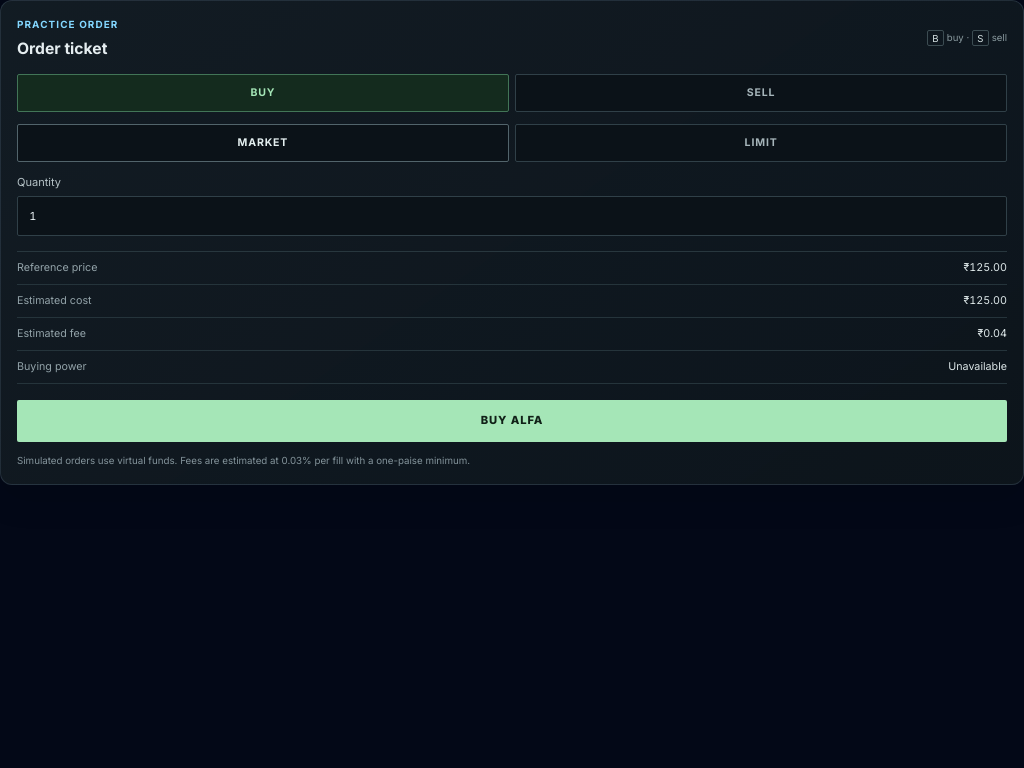
Scenario: markets workspace › surfaces a human-readable risk rejection from the order API
Click the button "BUY ALFA". click: x=512, y=421
box: [17,400,1007,442]
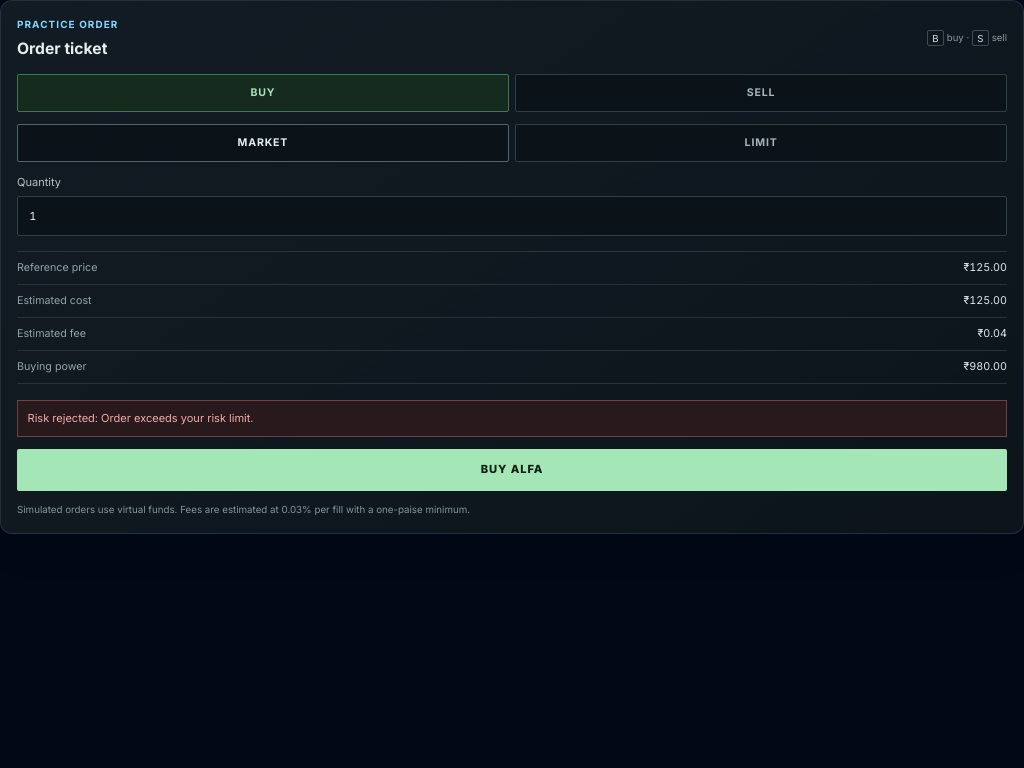
Result: the message reads "Risk rejected: Order exceeds your risk limit." at [28,411,254,425]
